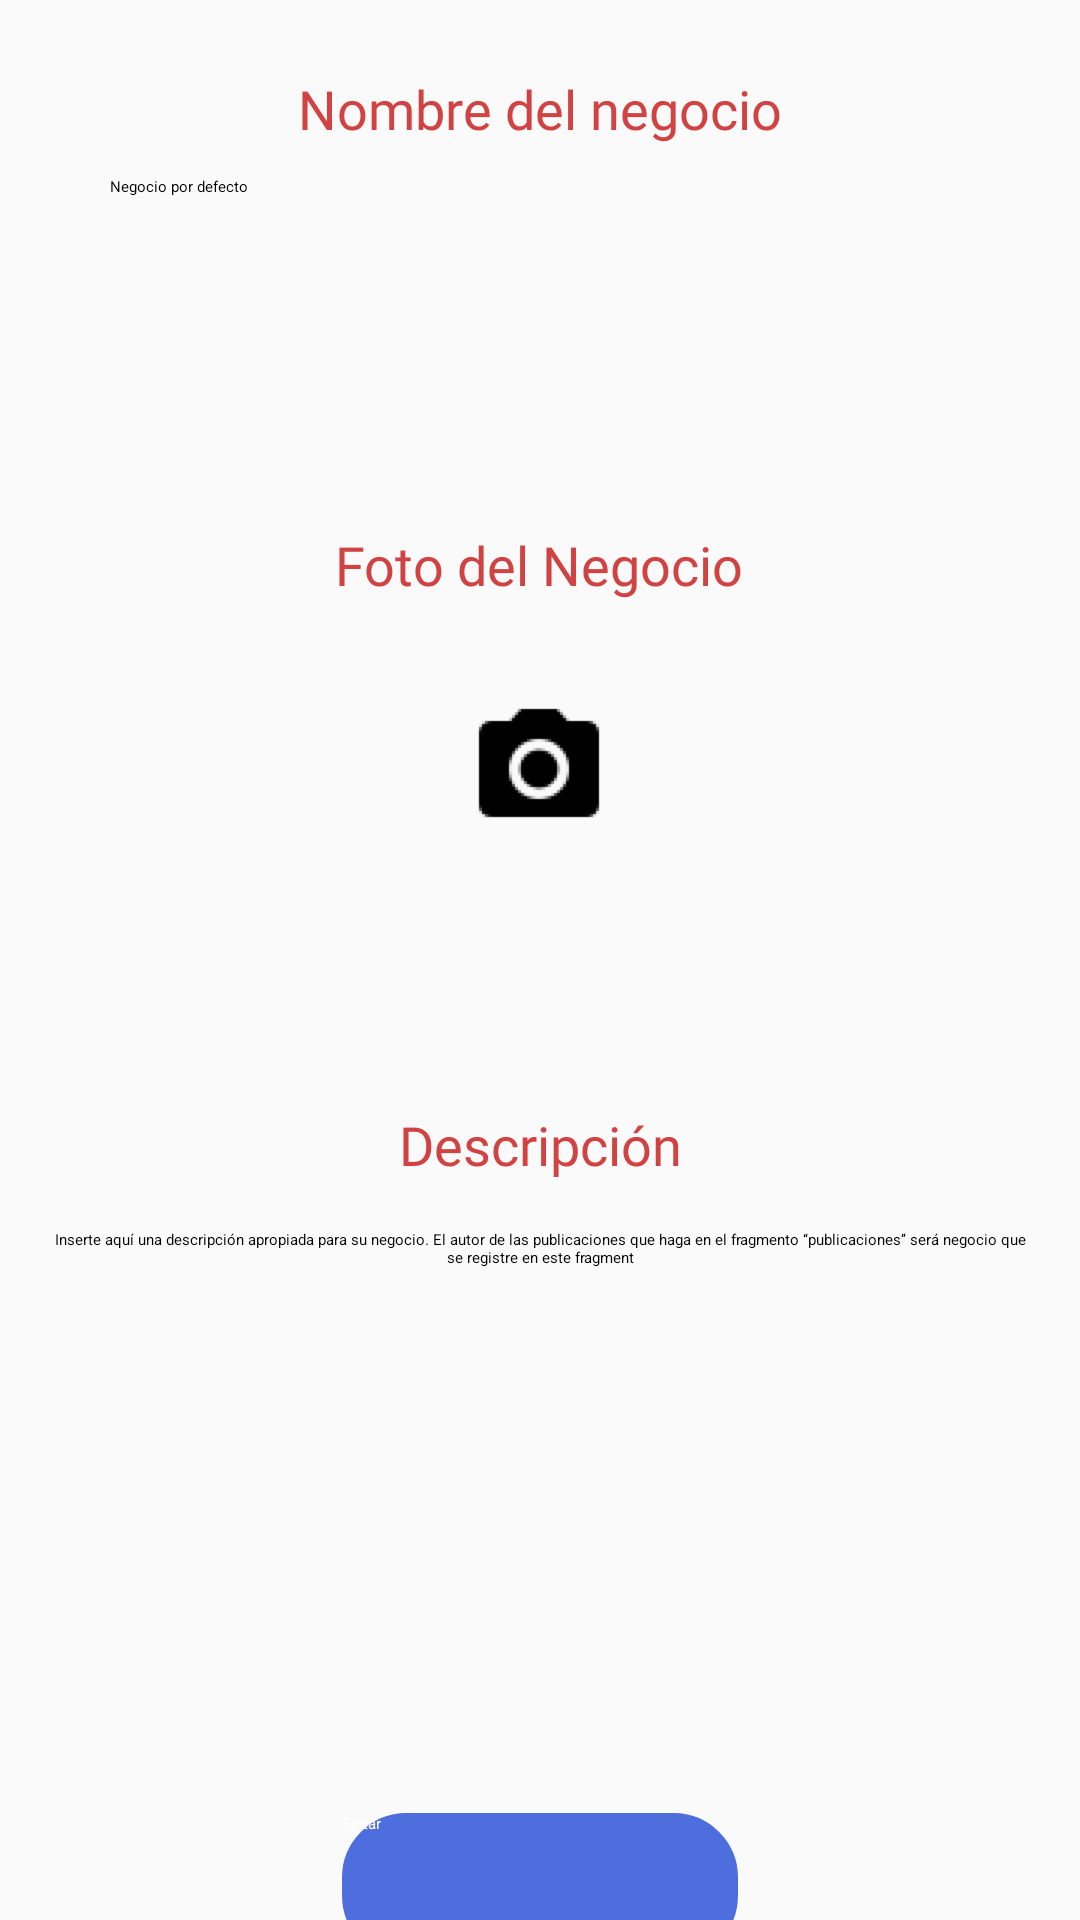

Locate icon controls on the screen. Image size 1080px x 1920px, boxes as {"x1": x1, "y1": y1, "x2": x2, "y2": y2}.
Agregar imagen de negocio: {"x1": 478, "y1": 708, "x2": 600, "y2": 818}
